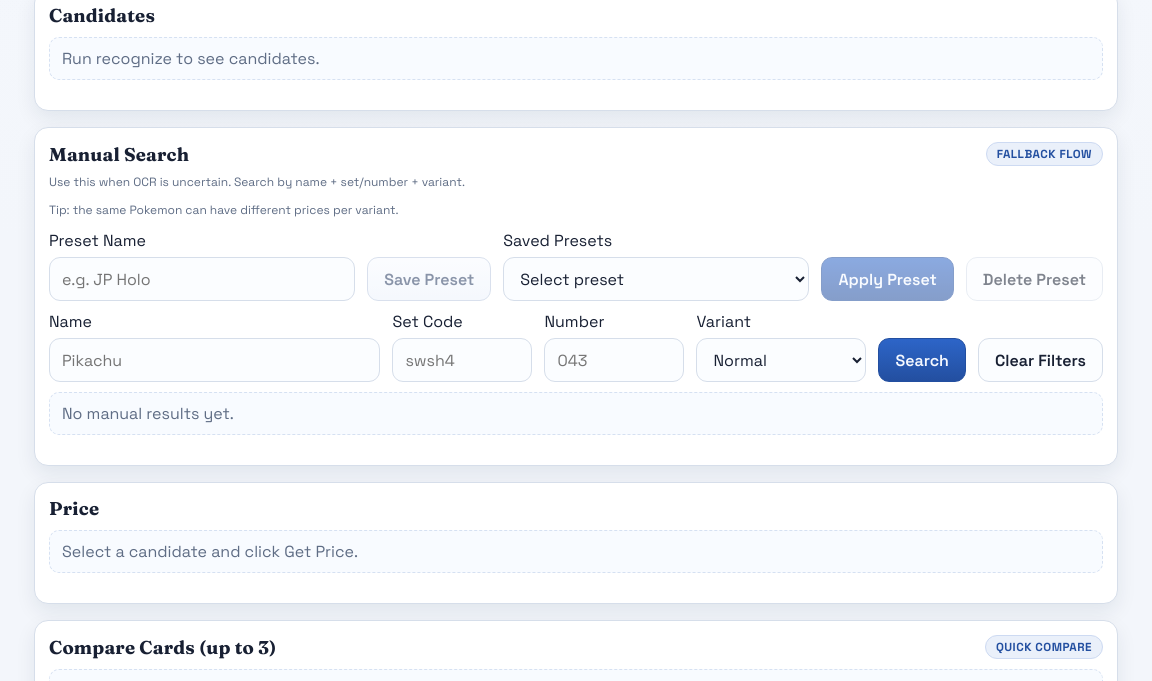
HomePage › shows user-friendly alert when manual search request fails
(page scrolled)
Type "Mew" into the field labelled "Name" at (215, 360), box [49,338,380,382]
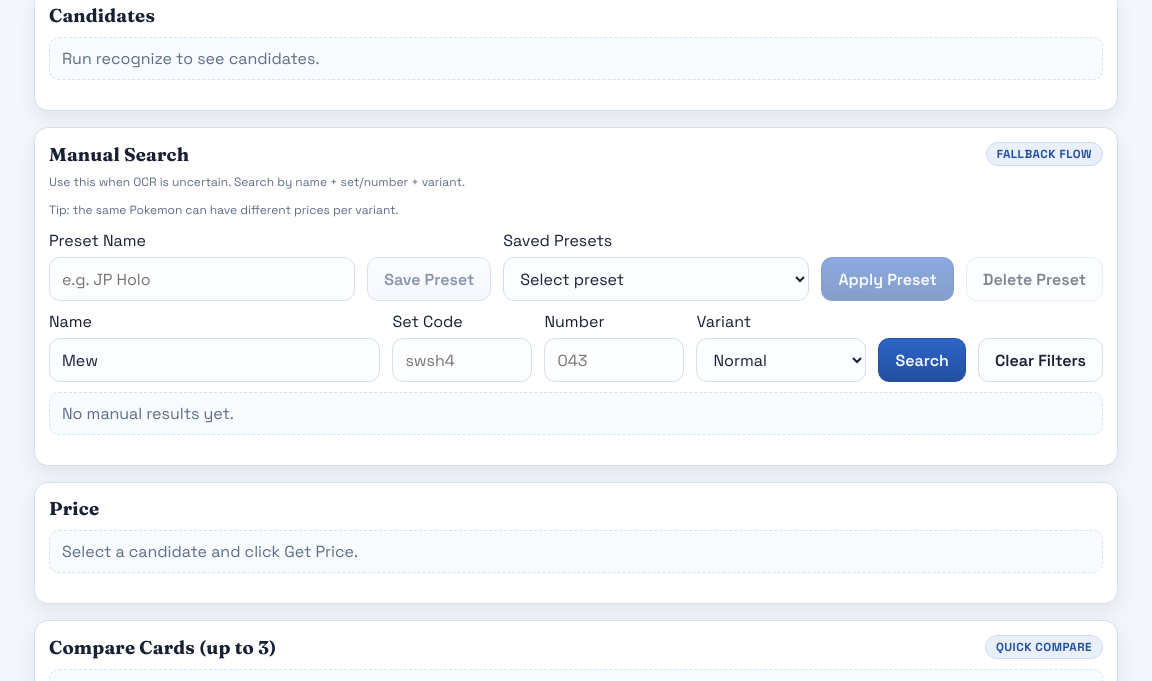
Click the button "Search" at (922, 360), box [878,338,966,382]
(page scrolled)
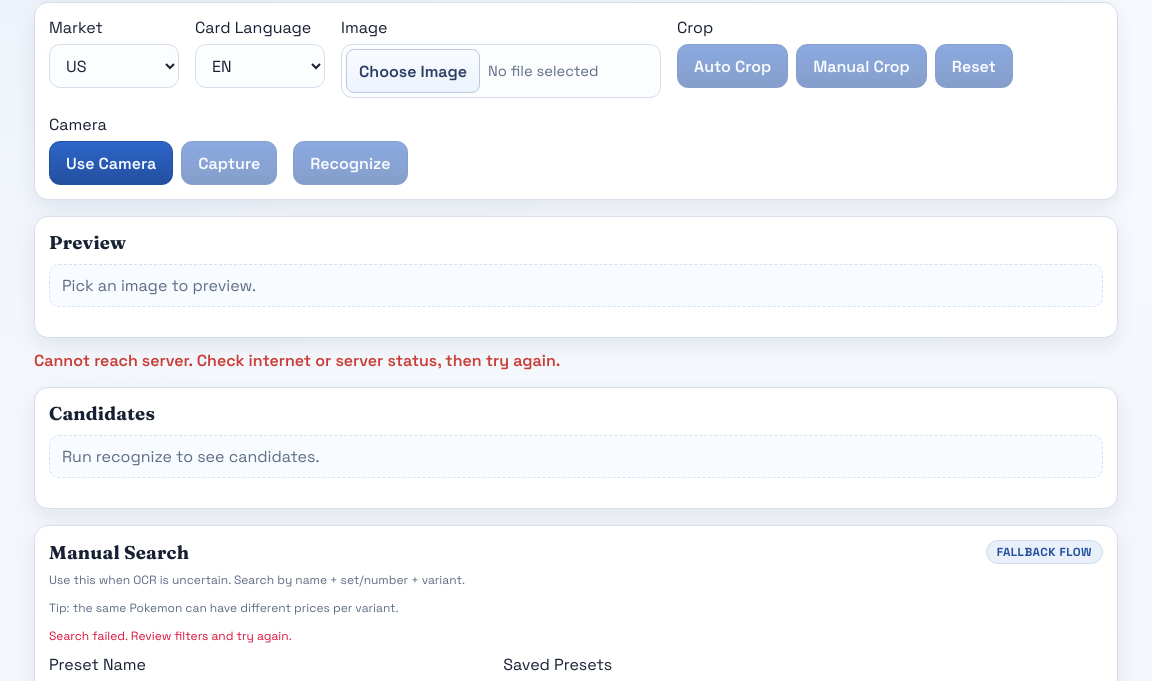
Expected: the text "Search failed. Review filters and try again." is shown, [49,628,292,644]
Expected: the text "Cannot reach server. Check internet or server status, then try again." is shown, [34,350,560,371]
